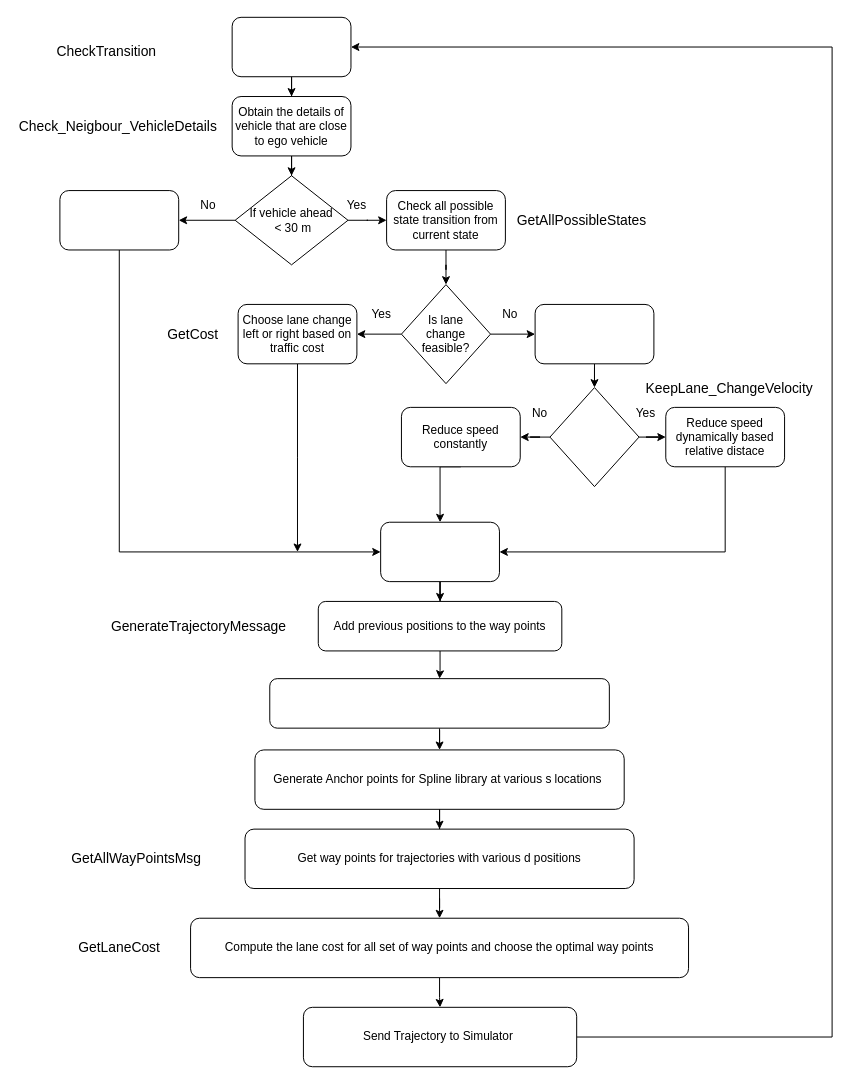
Image size: 857x1084. Some labels were removed from this diagram. The shapes that lost their labels are listed below. From the top down, each one's box as (x1, y1, x2, y2) in pixels, then its label:
(231, 16, 351, 77): Get All vehicle details from sensor fusion & check state transition
(59, 190, 179, 250): Stay at target speed of 50M/h
(534, 303, 654, 364): Stay in same lane
(549, 387, 639, 487): Is vehicle ahead < 25m
(380, 521, 499, 582): Update Lane and Velocity for trajectory planning
(269, 678, 609, 728): Transform way points to car's coordinates system
